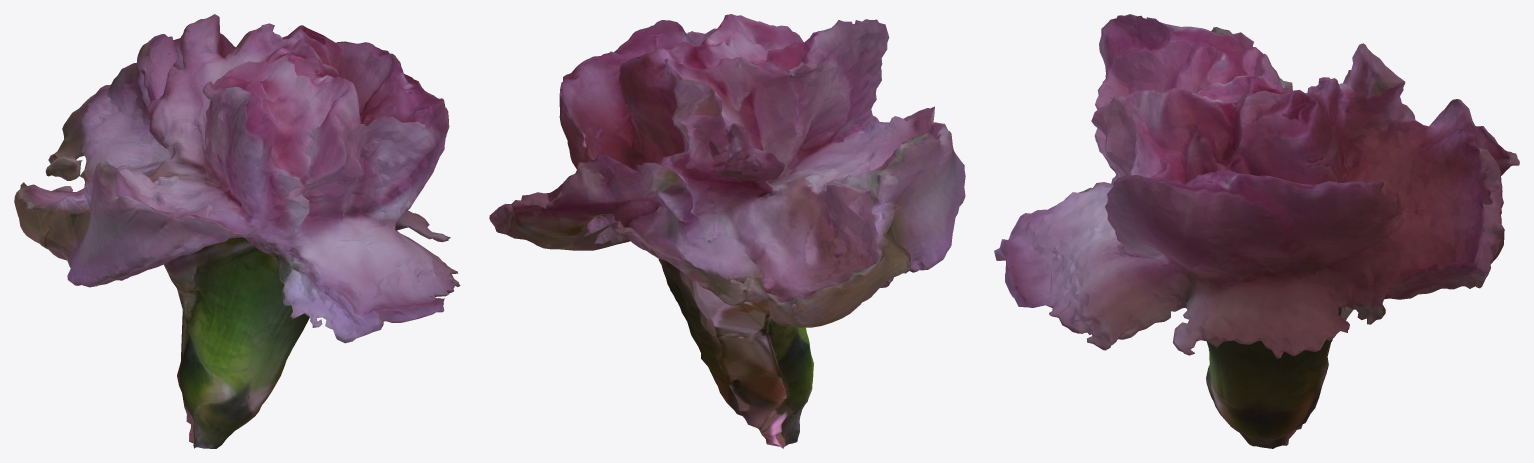
The model's file is carnation.glb.
3 renders of one model, left to right at view 1: azimuth 30°, elevation 25°; view 2: azimuth 150°, elevation 25°; view 3: azimuth 270°, elevation 25°, orthographic. The views are drawn at different scales.
Parts seen in each view (by area): view 1: Object_2; view 2: Object_2; view 3: Object_2.
Boxes of the visible parts, x1,y1,x2,y2 form: Object_2: [14, 14, 460, 448]; Object_2: [489, 14, 965, 448]; Object_2: [994, 14, 1519, 448].
Size of the model in its own units: 1.46 by 1.52 by 1.71.
1 material, 1 textured.
